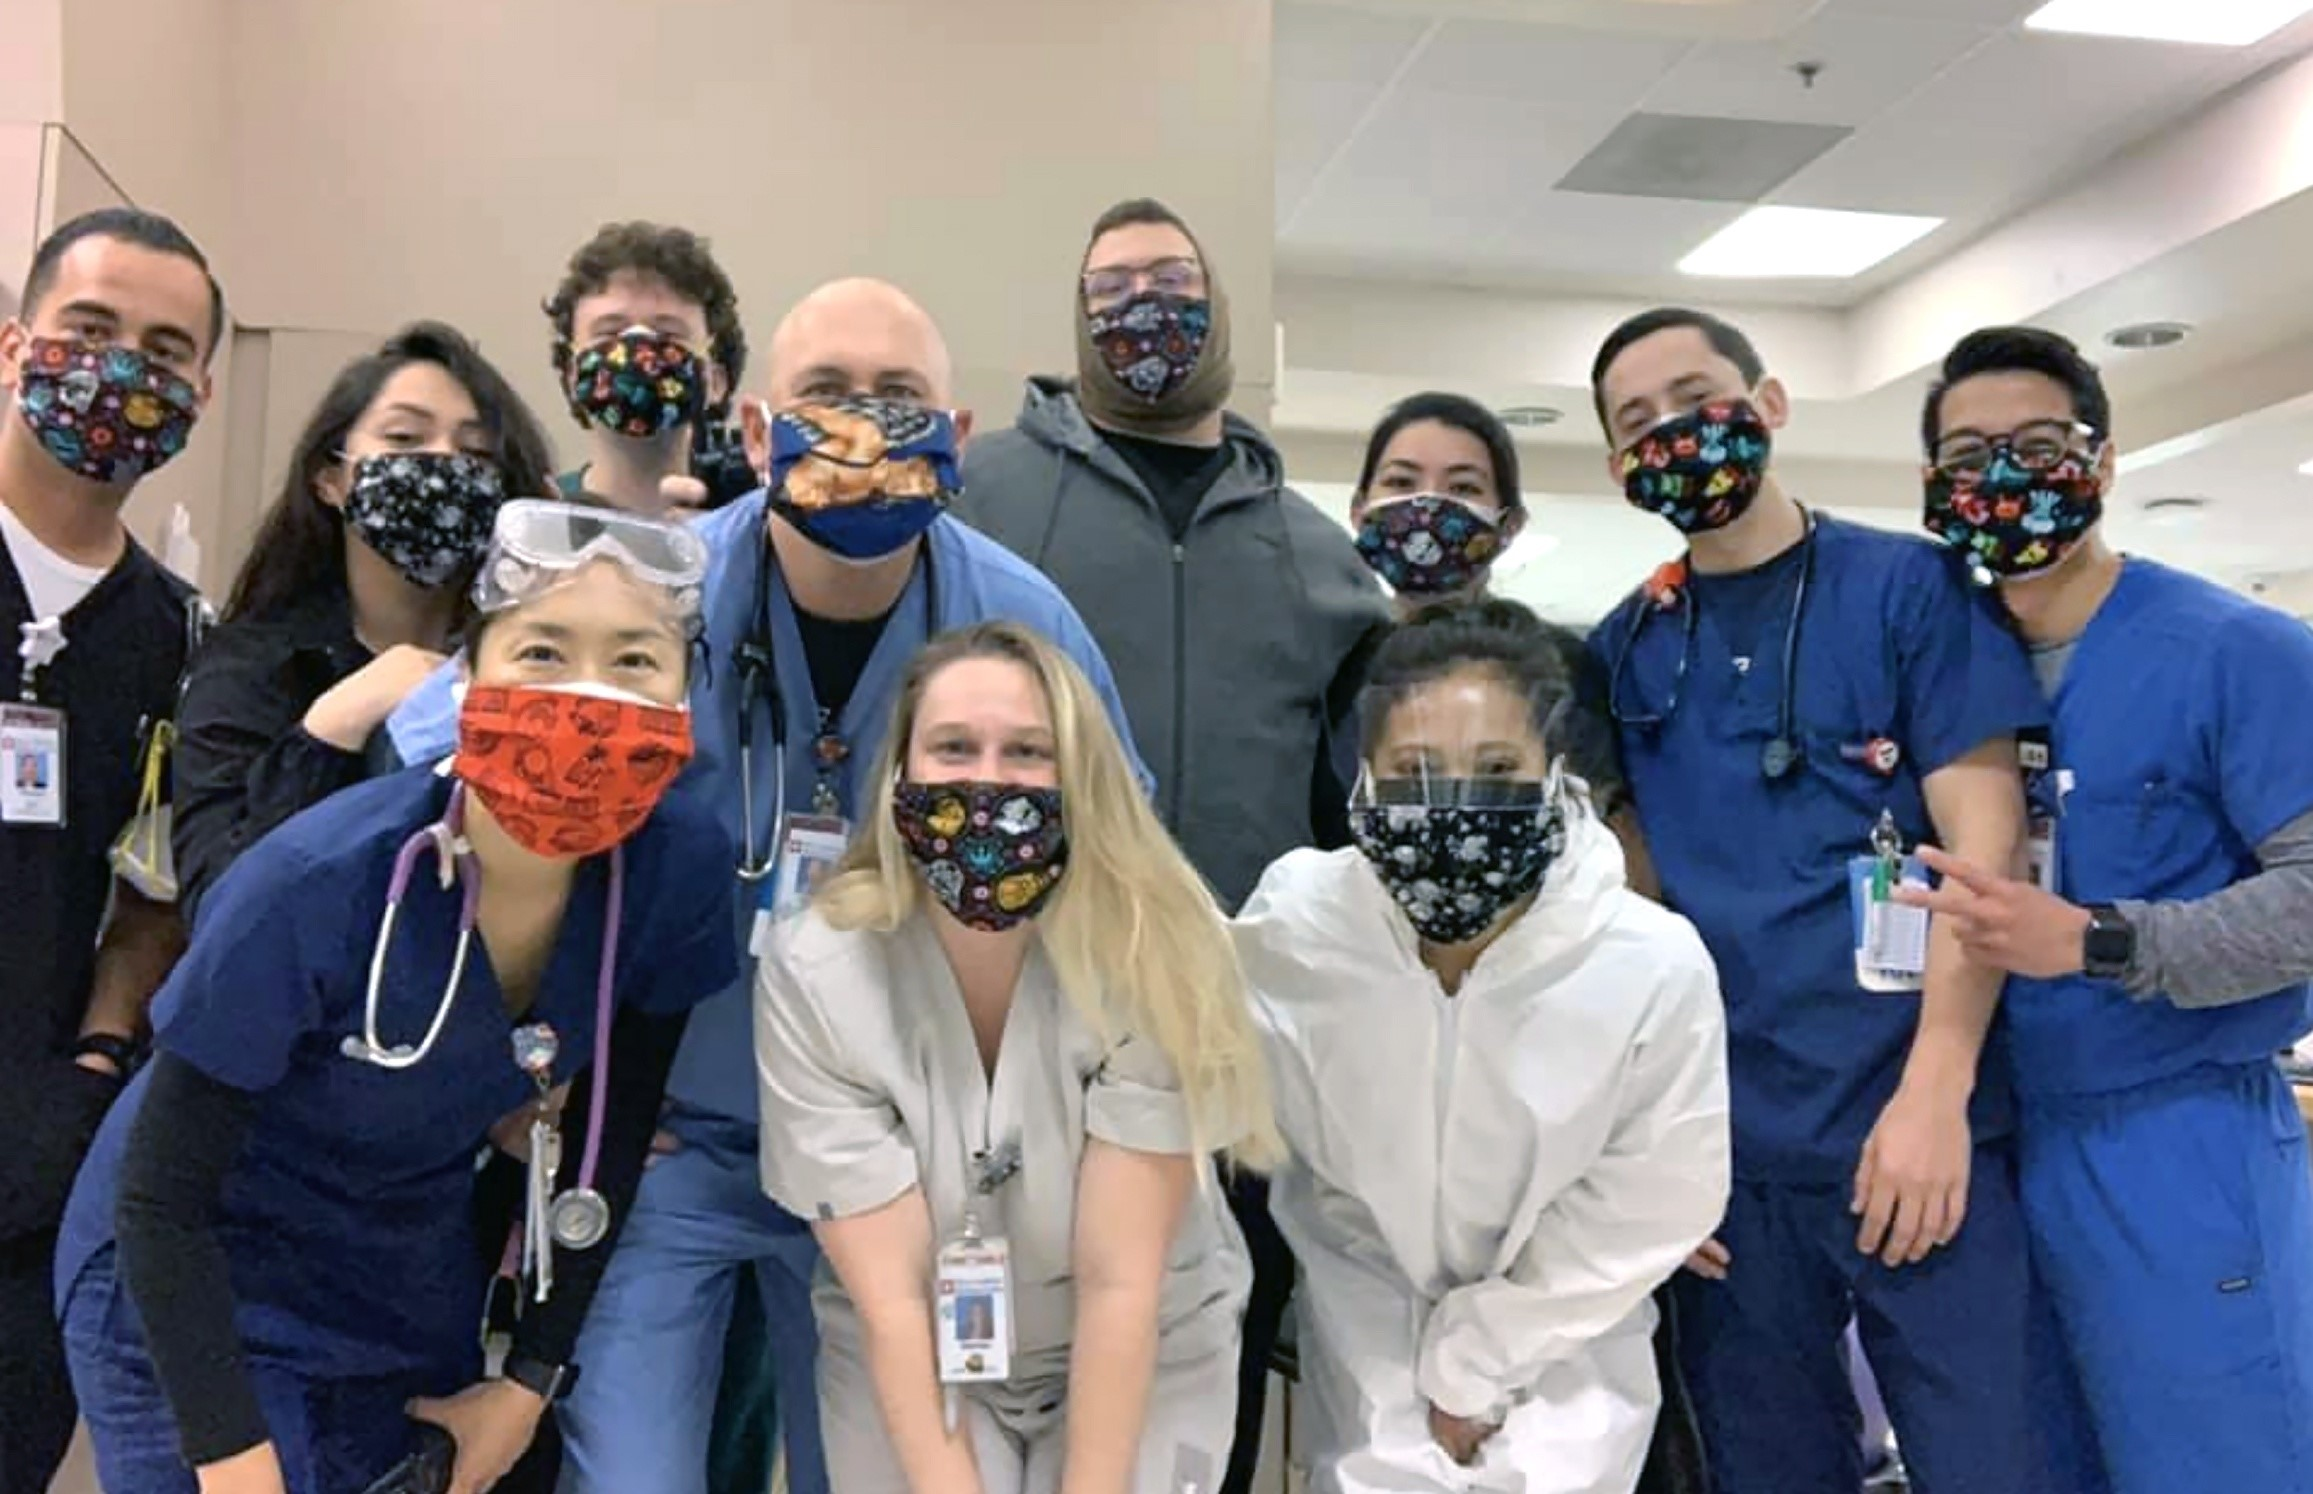face_with_mask: (442, 484, 716, 864), (1330, 627, 1610, 955), (727, 268, 997, 591), (0, 200, 241, 516), (296, 346, 542, 641), (886, 649, 1111, 928), (540, 202, 747, 470), (1918, 321, 2109, 594), (1351, 376, 1542, 605), (1601, 314, 1791, 542), (1076, 196, 1246, 432)
